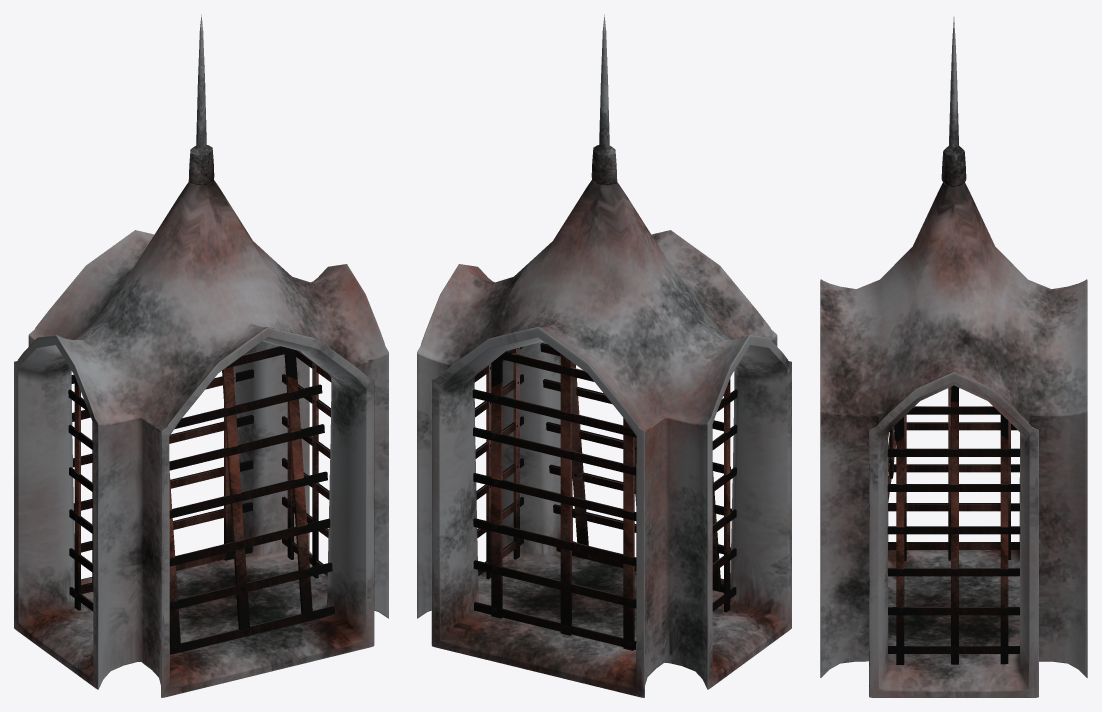
The model's file is BR_wizjail.fbx.
3 views of the same model, side by side, from view 1: azimuth 30°, elevation 25°; view 2: azimuth 150°, elevation 25°; view 3: azimuth 270°, elevation 25° (orthographic).
Visible parts, largest first — view 1: polySurface40, polySurface34; view 2: polySurface40, polySurface34; view 3: polySurface40.
Part boxes in pixels (x1=…): polySurface40: x1=14, y1=14, x2=388, y2=697; polySurface34: x1=169, y1=346, x2=334, y2=654; polySurface40: x1=417, y1=14, x2=791, y2=697; polySurface34: x1=540, y1=343, x2=731, y2=592; polySurface40: x1=820, y1=17, x2=1087, y2=697.
Size of the model in its own units: 0.1777 by 0.3554 by 0.1405.
